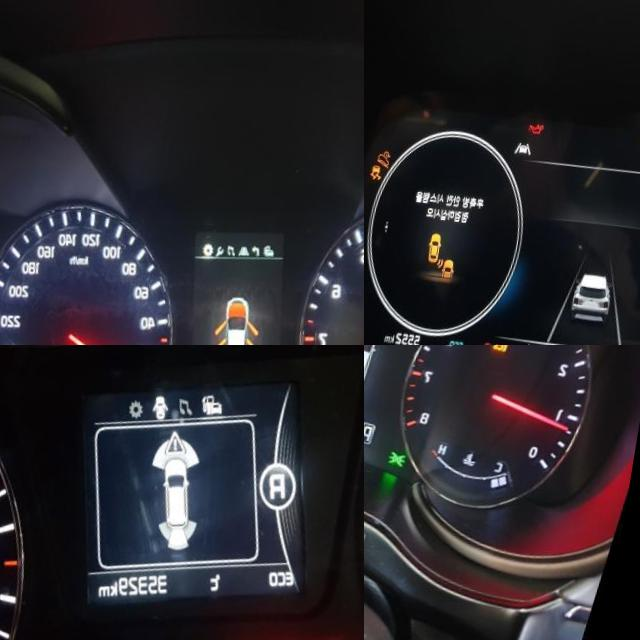Central Warning lamp: (505, 332, 519, 345)
LaneCenteringOff: (523, 130, 542, 145)
SideLamp: (399, 436, 421, 457)
